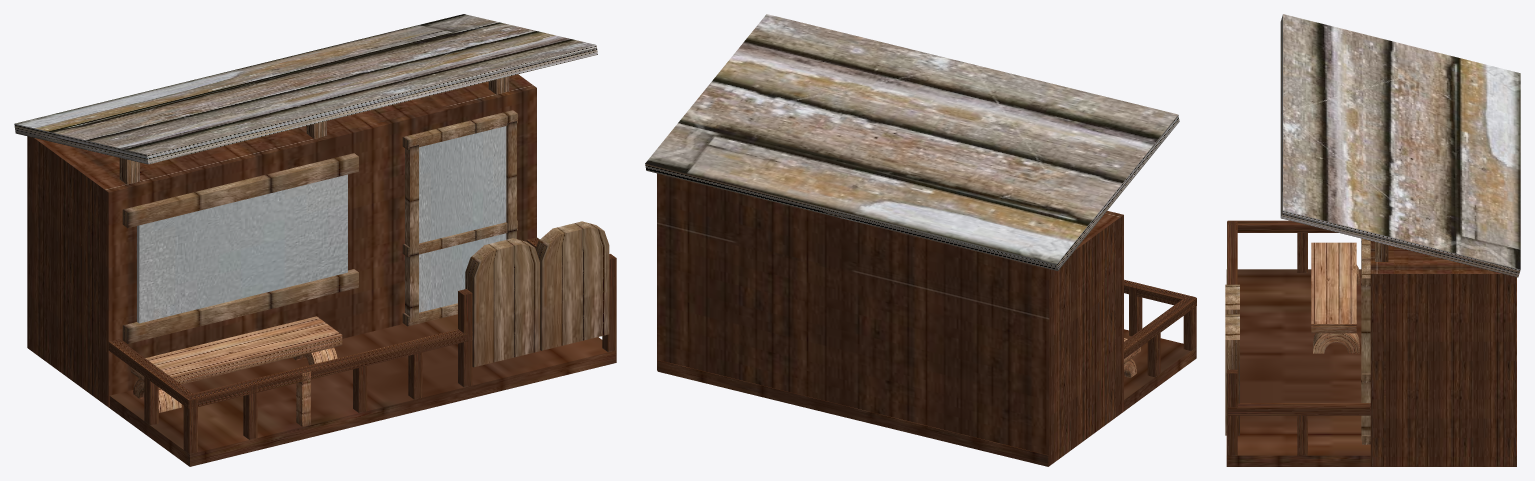
File: house2.fbx
The picture shows the model from 3 angles, left to right: view 1: azimuth 30°, elevation 25°; view 2: azimuth 150°, elevation 25°; view 3: azimuth 270°, elevation 25°; orthographic projection. The views are drawn at different scales.
Visible parts, largest first — view 1: HouseBody, pCube36, Rand, pCube30, pCube24, pCube21, pCube19, pCube22, pCube32, pCube31, pCube11, pCube27 (+12 smaller); view 2: HouseBody, pCube36, Rand, pCube13, pCube11, pCube7; view 3: pCube36, HouseBody, Rand, pCube22, pCube14, pCube37, pCube21, pCube13, pCube20, pPipe2, pCube11, pCube19 (+3 smaller).
Part boxes in pixels (bbox=[...]): HouseBody: bbox=[27, 74, 536, 407]; pCube36: bbox=[14, 14, 597, 164]; Rand: bbox=[109, 314, 616, 466]; pCube30: bbox=[137, 174, 347, 323]; pCube24: bbox=[419, 126, 506, 312]; pCube21: bbox=[535, 221, 609, 350]; pCube19: bbox=[465, 238, 539, 367]; pCube22: bbox=[131, 316, 342, 389]; pCube32: bbox=[122, 153, 358, 228]; pCube31: bbox=[122, 269, 358, 343]; pCube11: bbox=[185, 329, 472, 408]; pCube27: bbox=[405, 145, 418, 322]; HouseBody: bbox=[657, 173, 1123, 466]; pCube36: bbox=[645, 14, 1179, 270]; Rand: bbox=[657, 329, 1196, 466]; pCube13: bbox=[1124, 297, 1196, 358]; pCube11: bbox=[1124, 279, 1195, 305]; pCube7: bbox=[1129, 286, 1142, 336]; pCube36: bbox=[1280, 14, 1520, 277]; HouseBody: bbox=[1370, 241, 1516, 466]; Rand: bbox=[1226, 269, 1516, 466]; pCube22: bbox=[1311, 242, 1356, 333]; pCube14: bbox=[1227, 403, 1370, 415]; pCube37: bbox=[1361, 280, 1370, 440]; pCube21: bbox=[1225, 314, 1239, 435]; pCube13: bbox=[1228, 220, 1338, 232]; pCube20: bbox=[1227, 369, 1237, 455]; pPipe2: bbox=[1313, 333, 1359, 353]; pCube11: bbox=[1227, 221, 1237, 284]; pCube19: bbox=[1225, 284, 1239, 314].
Size of the model in its own units: 23.71 by 14.72 by 15.07.
Materials: 6 (5 with a texture image).
